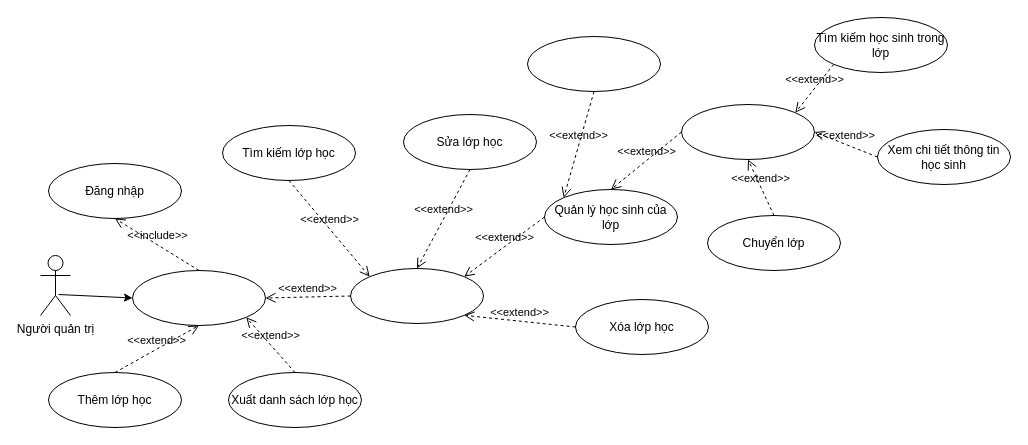
Image size: 1028x445. Some labels were removed from this diagram. Here are the shapes that lost their labels. From the top down, the centre of each, then its label:
the point at 593,64: Thêm danh sách học sinh vào lớp
the point at 747,132: Xem danh sách học sinh của lớp
the point at 199,298: Quản lý lớp học
the point at 417,296: Xem danh sách lớp học
